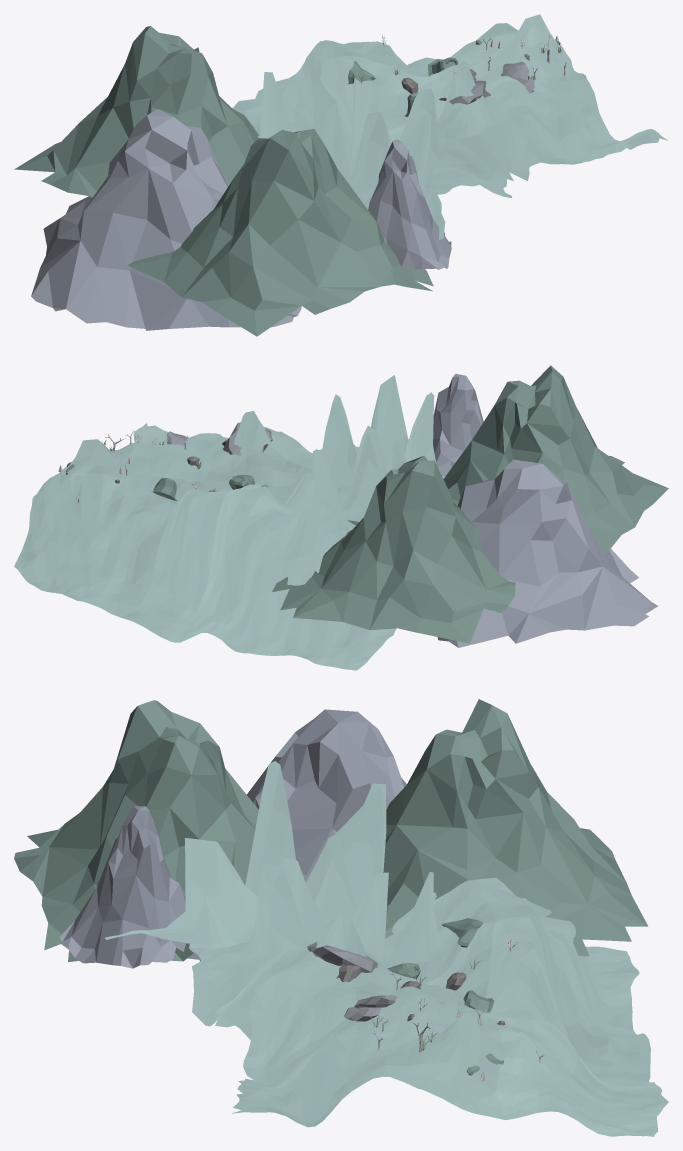
Rendered from yukiyama.fbx.
The picture shows the model from 3 angles, top to bottom: view 1: azimuth 30°, elevation 25°; view 2: azimuth 150°, elevation 25°; view 3: azimuth 270°, elevation 25°; orthographic projection. The views are drawn at different scales.
Visible parts, largest first — view 1: Environment_5, polySurface202, polySurface203, polySurface201, polySurface205; view 2: Environment_5, polySurface201, polySurface203, polySurface202, polySurface205; view 3: Environment_5, polySurface201, polySurface202, polySurface203, polySurface205, Rock_13, Log_6.
Boxes of the visible parts, box(x1,y1,x2,y2) form: Environment_5: box(232, 14, 668, 240); polySurface202: box(128, 129, 433, 336); polySurface203: box(31, 109, 301, 330); polySurface201: box(14, 26, 259, 197); polySurface205: box(368, 139, 451, 270); Environment_5: box(14, 375, 445, 670); polySurface201: box(272, 456, 515, 643); polySurface203: box(437, 459, 657, 647); polySurface202: box(443, 365, 668, 554); polySurface205: box(433, 374, 483, 476); Environment_5: box(105, 761, 668, 1136); polySurface201: box(383, 699, 648, 956); polySurface202: box(14, 700, 308, 962); polySurface203: box(187, 709, 406, 959); polySurface205: box(59, 806, 186, 968); Rock_13: box(307, 942, 377, 972); Log_6: box(441, 918, 482, 947).
Bounding box in the file's own units: 612 × 197 × 471.
